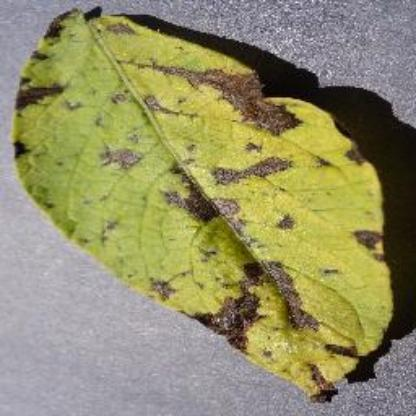Early-Blight: (10, 1, 414, 409)
